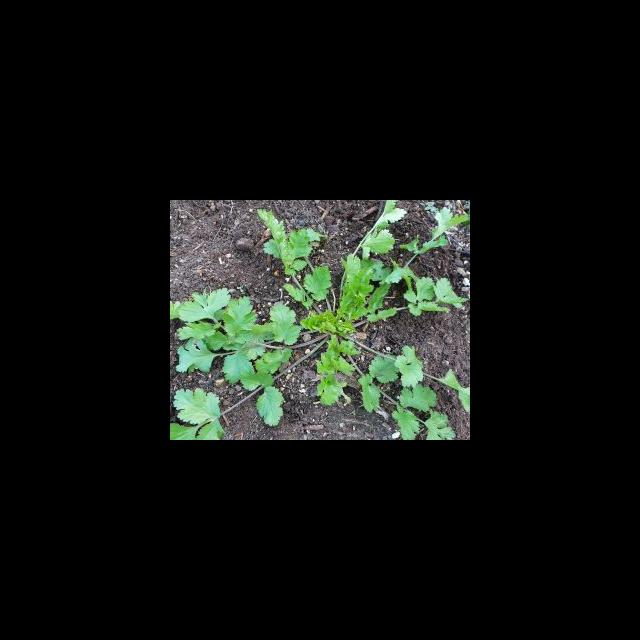cilantro: (170, 210, 332, 427)
